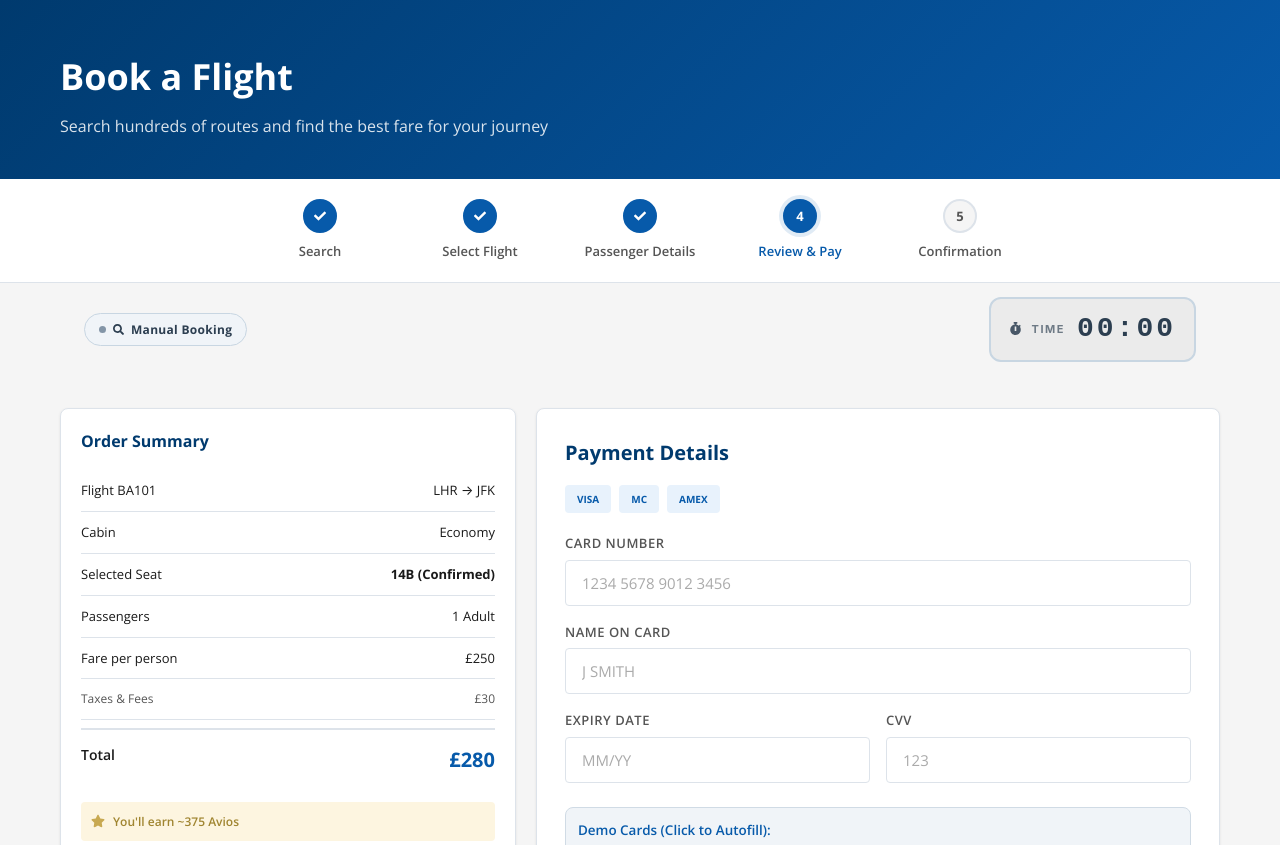
Test: BookFlight Payment Form Keyboard Validation - Component Tests › TC-PAY-004: Shows error for incomplete card number and prevents submission
Type "12345678" into the field labelled "Card Number".
click(878, 583); type("12345678")  # box [565, 560, 1191, 606]
(page scrolled)
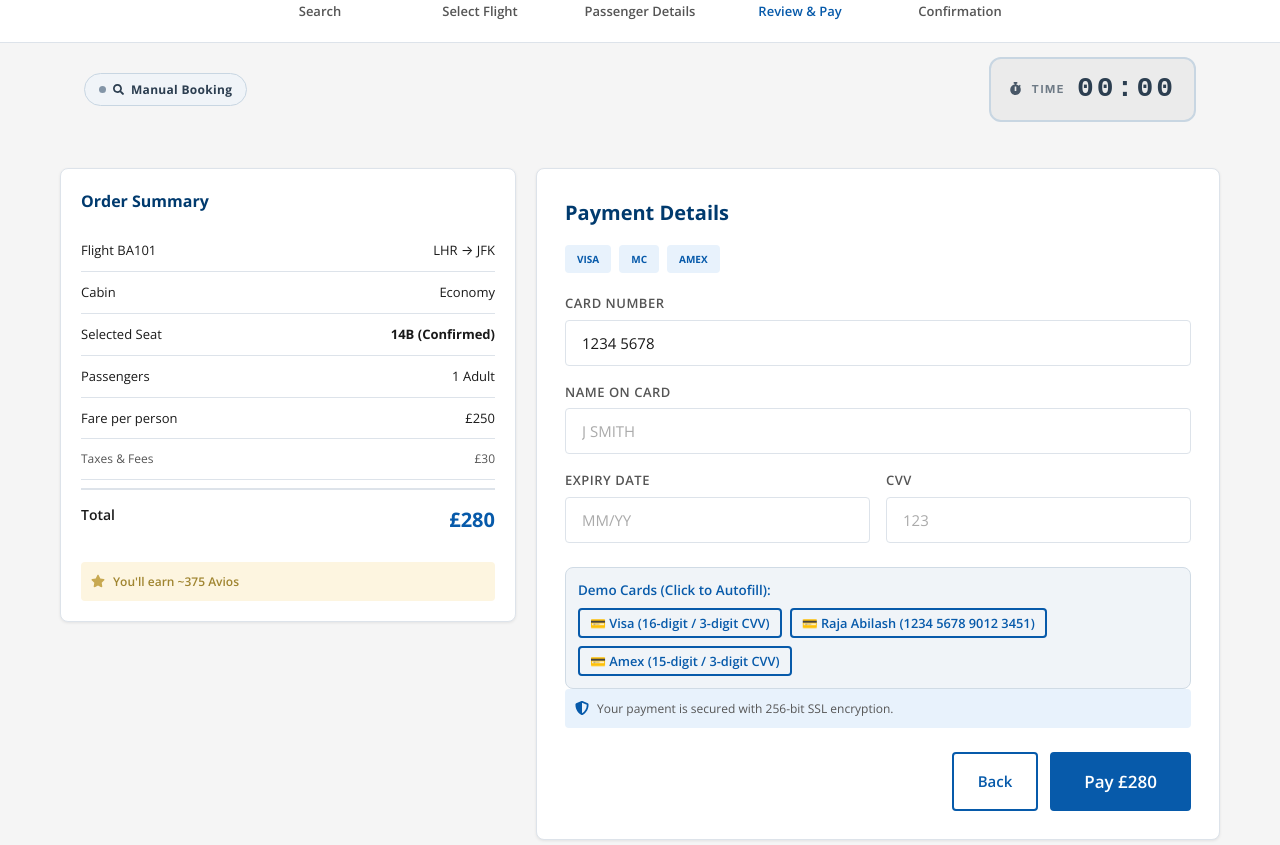
Click the button "Pay £280".
click(1121, 781)  # box [1050, 752, 1191, 811]
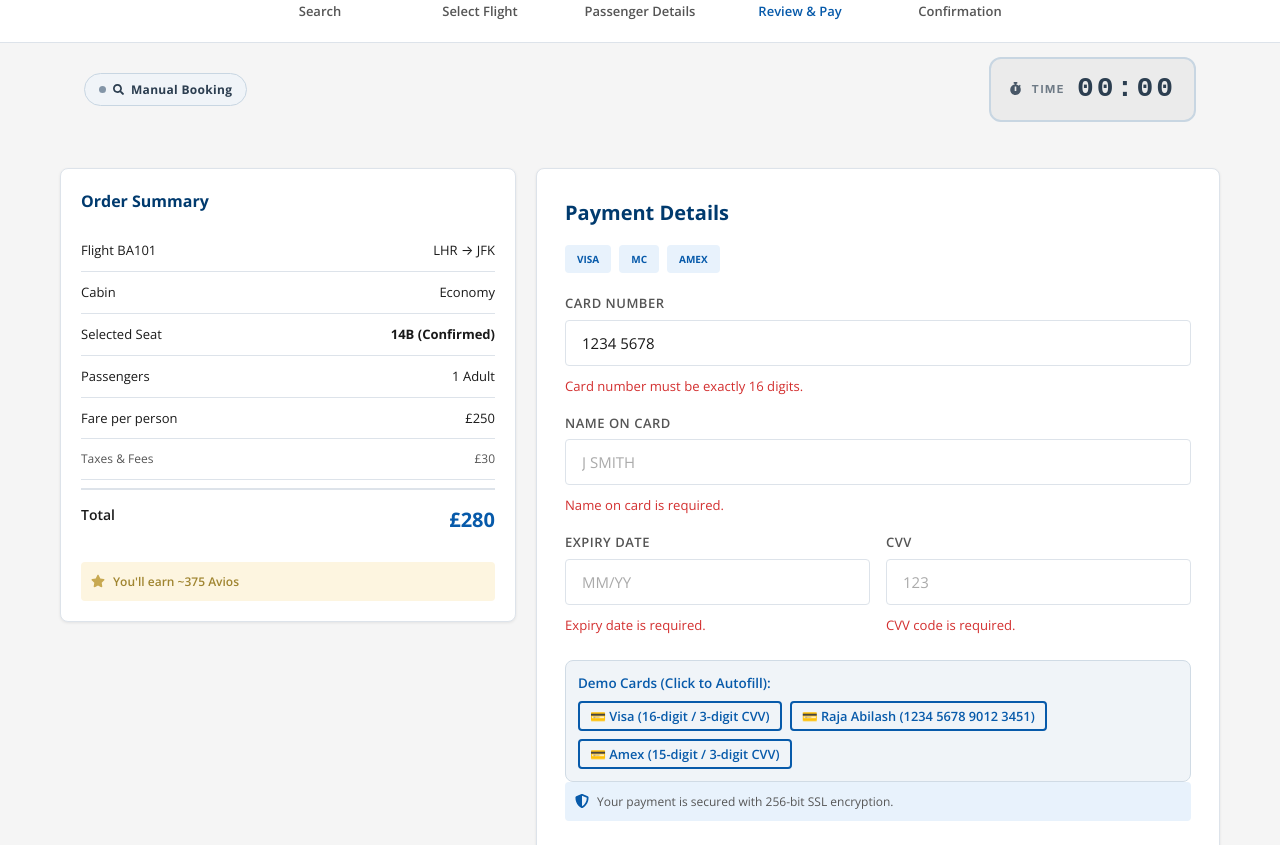
Now the text "Card number must be exactly 16 digits." is shown, box [565, 377, 803, 395]
